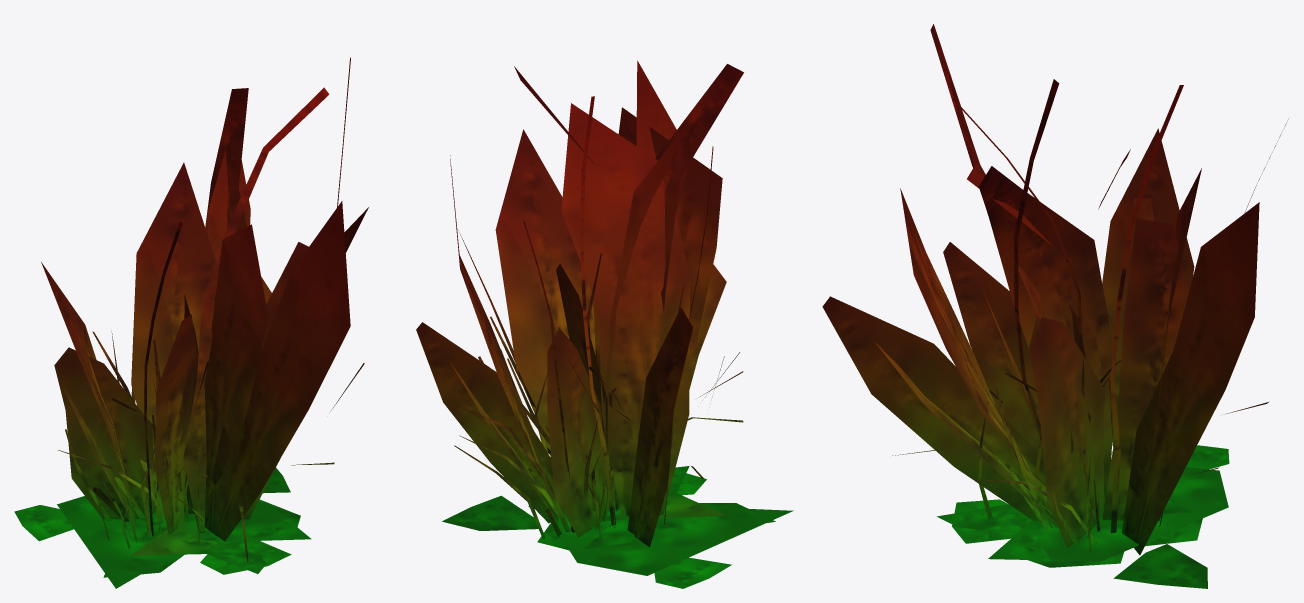
File: Thatching Grass_LOD1_Var6_uddmcgbia.glb
3 renders of one model, left to right at view 1: azimuth 30°, elevation 25°; view 2: azimuth 150°, elevation 25°; view 3: azimuth 270°, elevation 25°, orthographic. The views are drawn at different scales.
Visible parts, largest first — view 1: _0272_Var6_LOD1; view 2: _0272_Var6_LOD1; view 3: _0272_Var6_LOD1.
Boxes of the visible parts, x1,y1,x2,y2 form: _0272_Var6_LOD1: (14, 57, 368, 588); _0272_Var6_LOD1: (416, 60, 793, 588); _0272_Var6_LOD1: (822, 24, 1288, 588).
Bounding box in the file's own units: 0.1798 × 0.2706 × 0.2142.
1 material, 1 textured.
